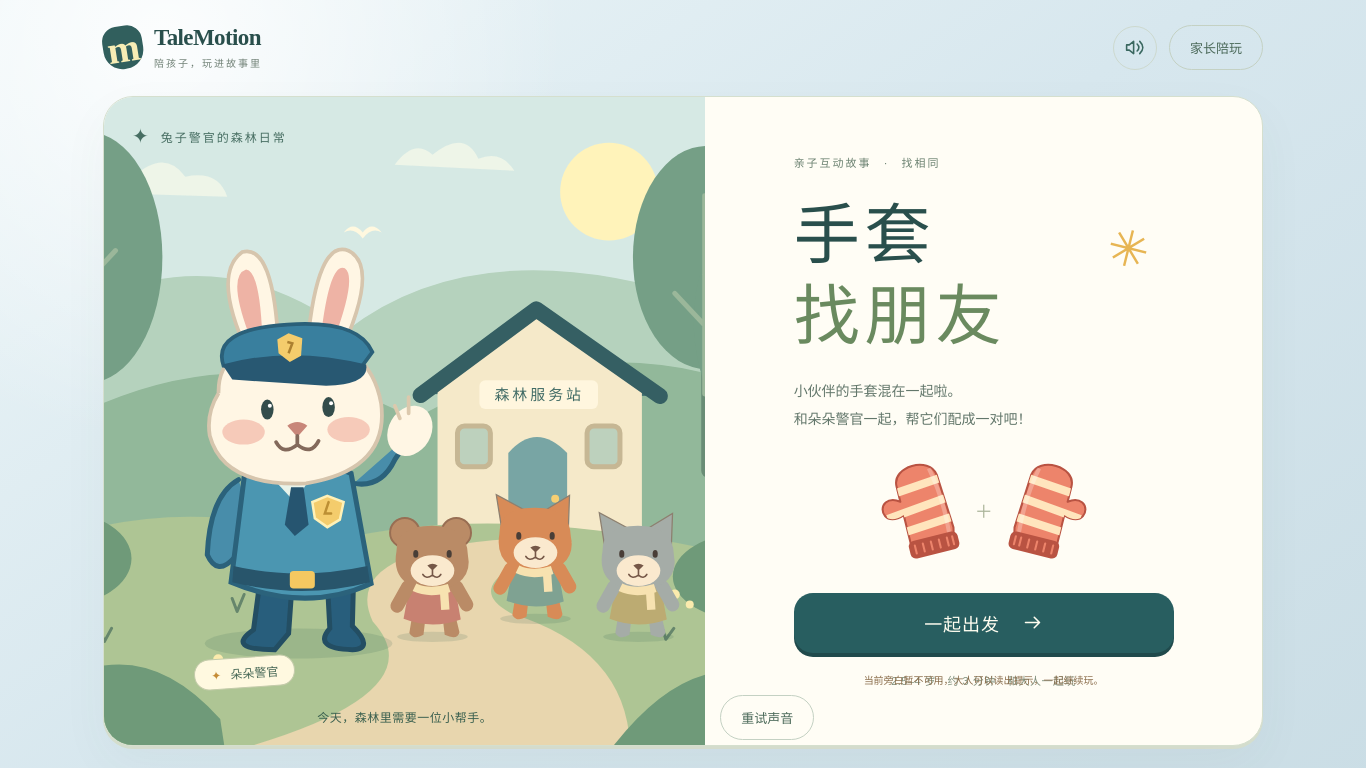
Test: matching story › works with no speech provider and no sound-dependent progression
The width and height of the screenshot is (1366, 768).
Expected: the message shows "当前旁白暂不可用", [864,675,1104,686]
Click the button "一起出发" at (984,623), box [794,593,1174,653]
Wait 1800 ms
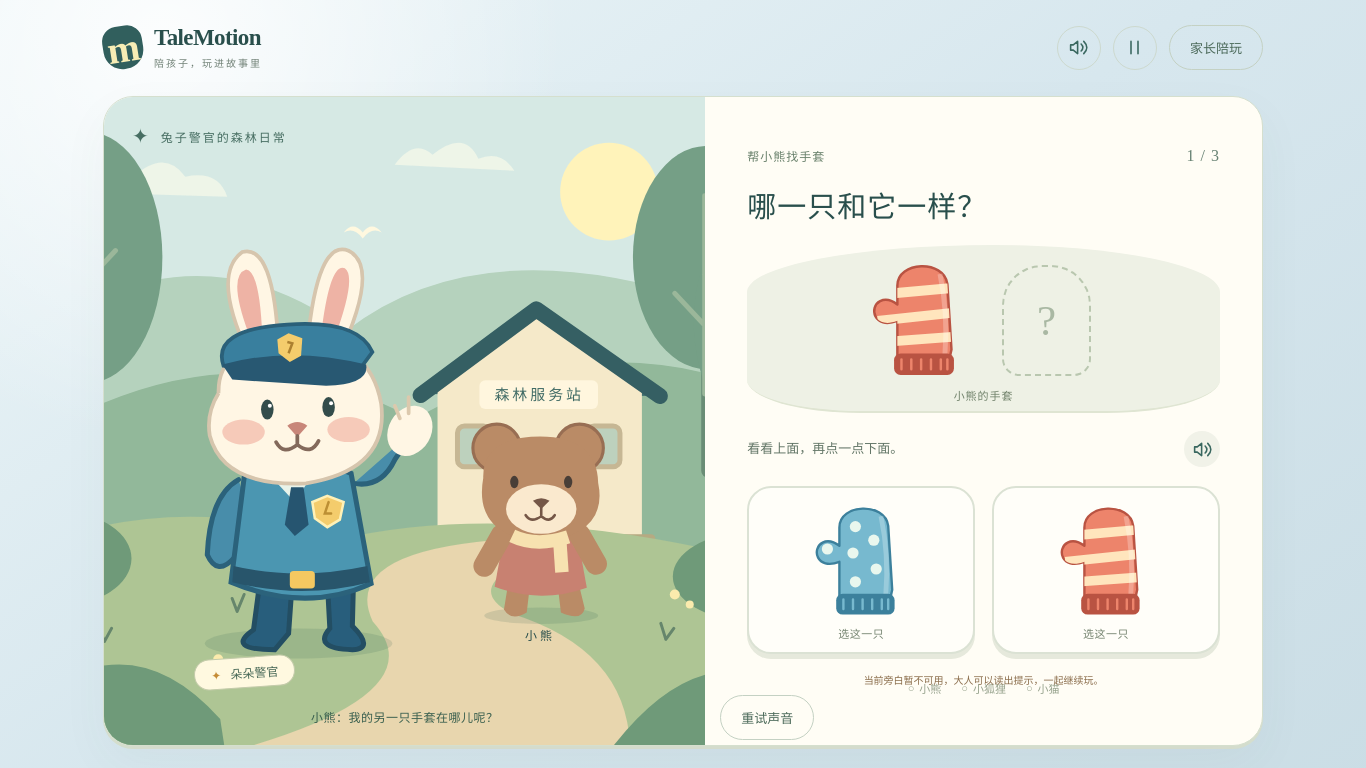
Click the button with aria-label "红色条纹手套" at (1106,570), box [992,486,1220,654]
Wait 1800 ms
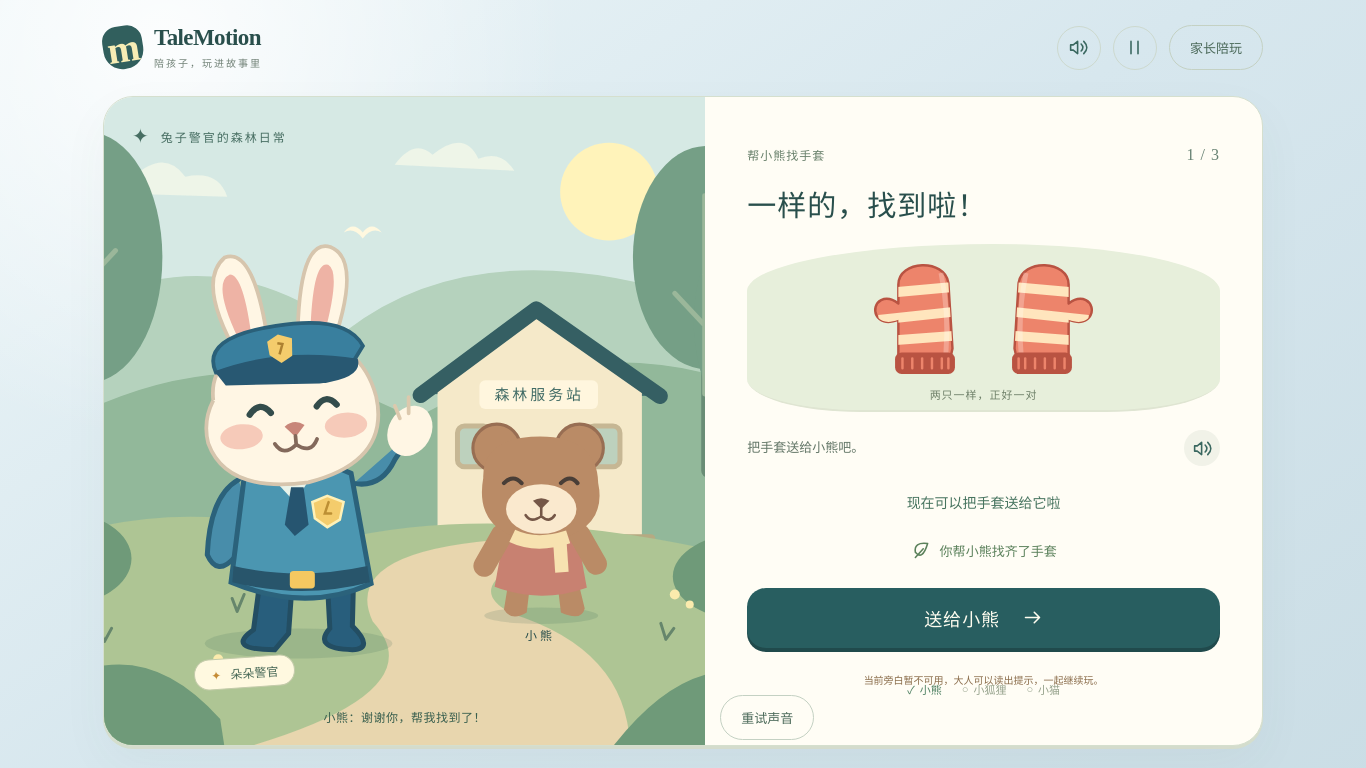
Click the button "送给小熊" at (984,618), box [747,588,1220,648]
Wait 1800 ms
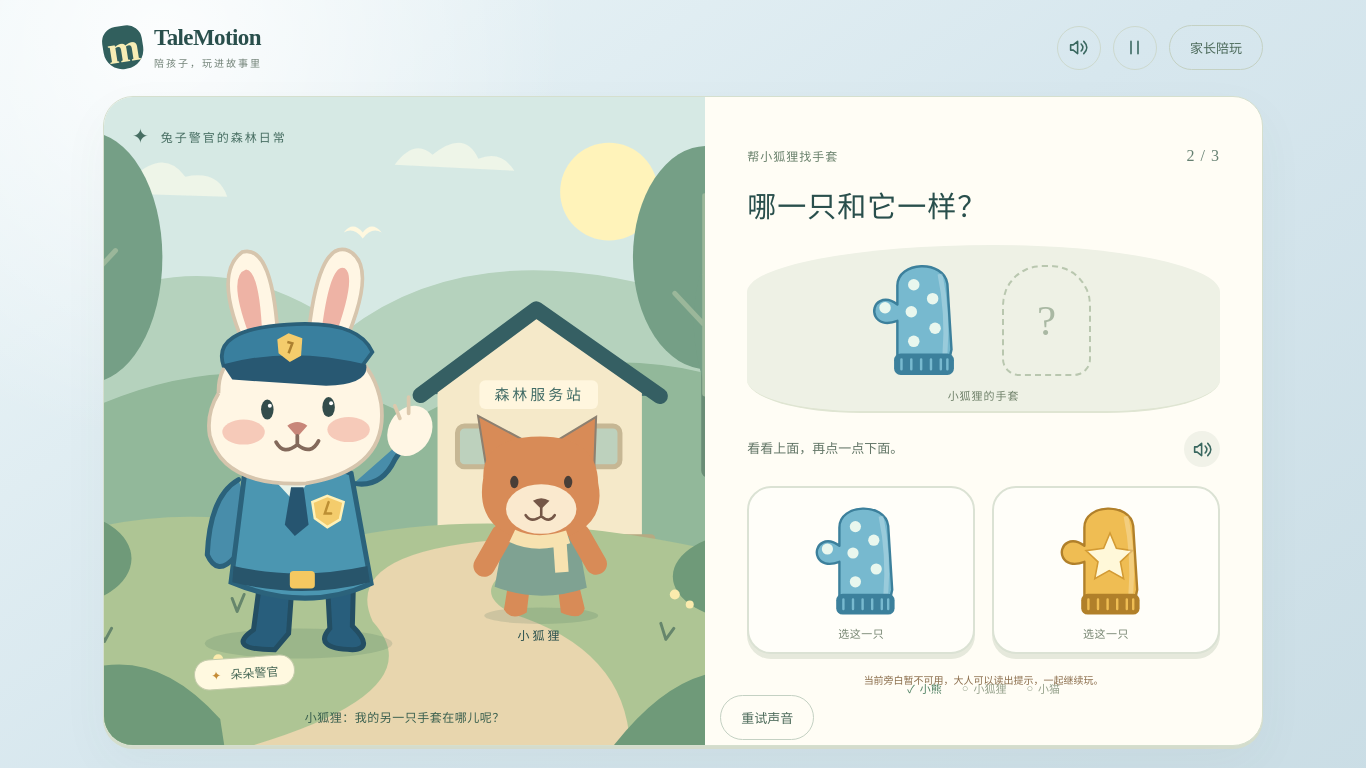
Expected: the text "帮小狐狸找手套" is shown, [747,147,838,164]
